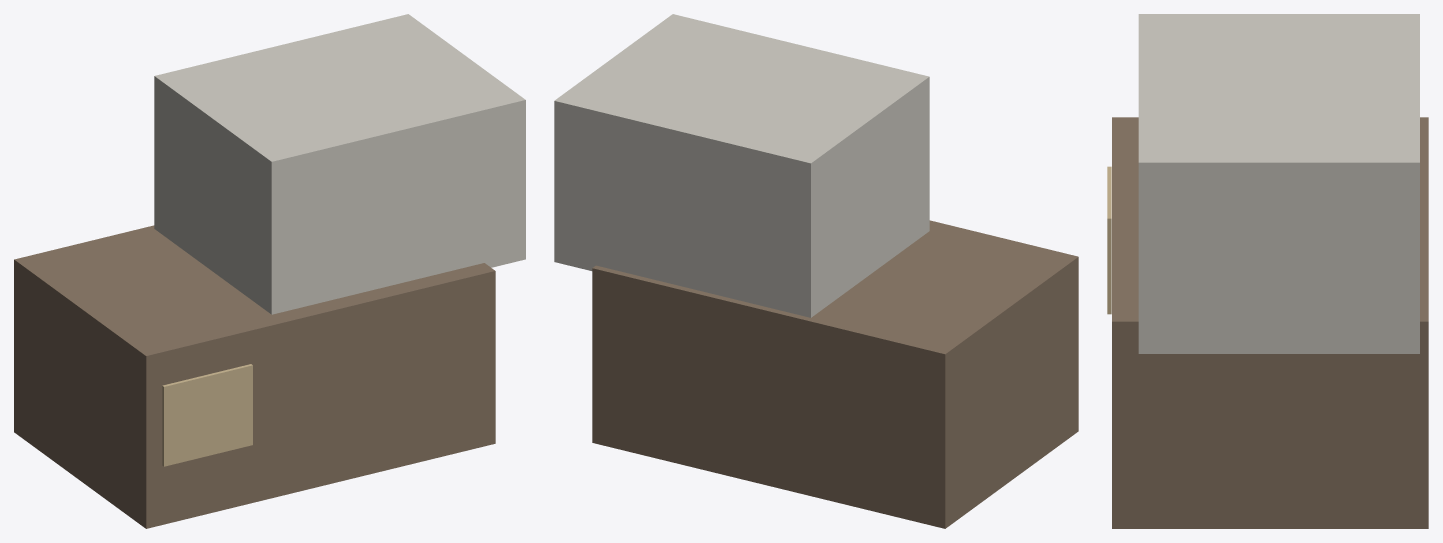
Rendered from living-staggered.glb.
The picture shows the model from 3 angles, left to right: view 1: azimuth 30°, elevation 25°; view 2: azimuth 150°, elevation 25°; view 3: azimuth 270°, elevation 25°; orthographic projection. The views are drawn at different scales.
Parts seen in each view (by area): view 1: geometry_0, geometry_1, geometry_2; view 2: geometry_0, geometry_1; view 3: geometry_1, geometry_0, geometry_2.
Boxes of the visible parts, box(x1,y1,x2,y2) form: geometry_0: box(14, 225, 495, 528); geometry_1: box(154, 14, 525, 314); geometry_2: box(162, 364, 252, 466); geometry_0: box(592, 220, 1078, 528); geometry_1: box(554, 14, 929, 317); geometry_1: box(1138, 14, 1419, 353); geometry_0: box(1112, 117, 1428, 528); geometry_2: box(1107, 166, 1111, 314).
Size of the model in its own units: 6.15 by 4.9 by 3.65.
